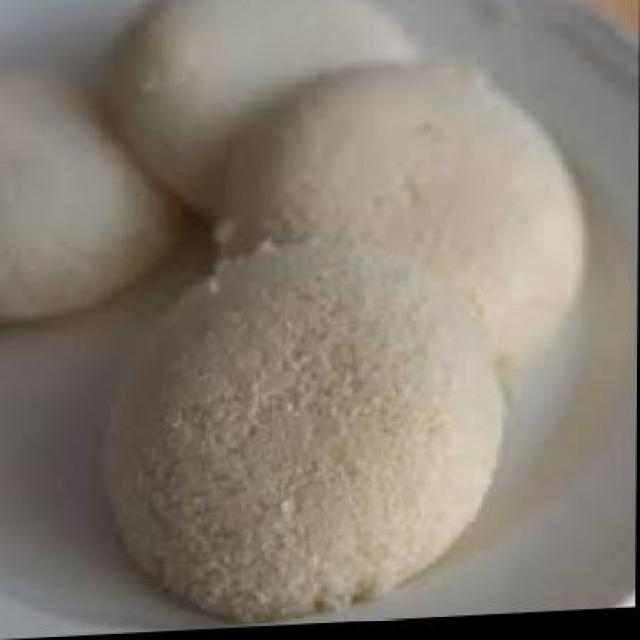idli: (101, 236, 508, 630), (215, 58, 588, 416), (102, 0, 420, 222), (0, 60, 183, 323)
